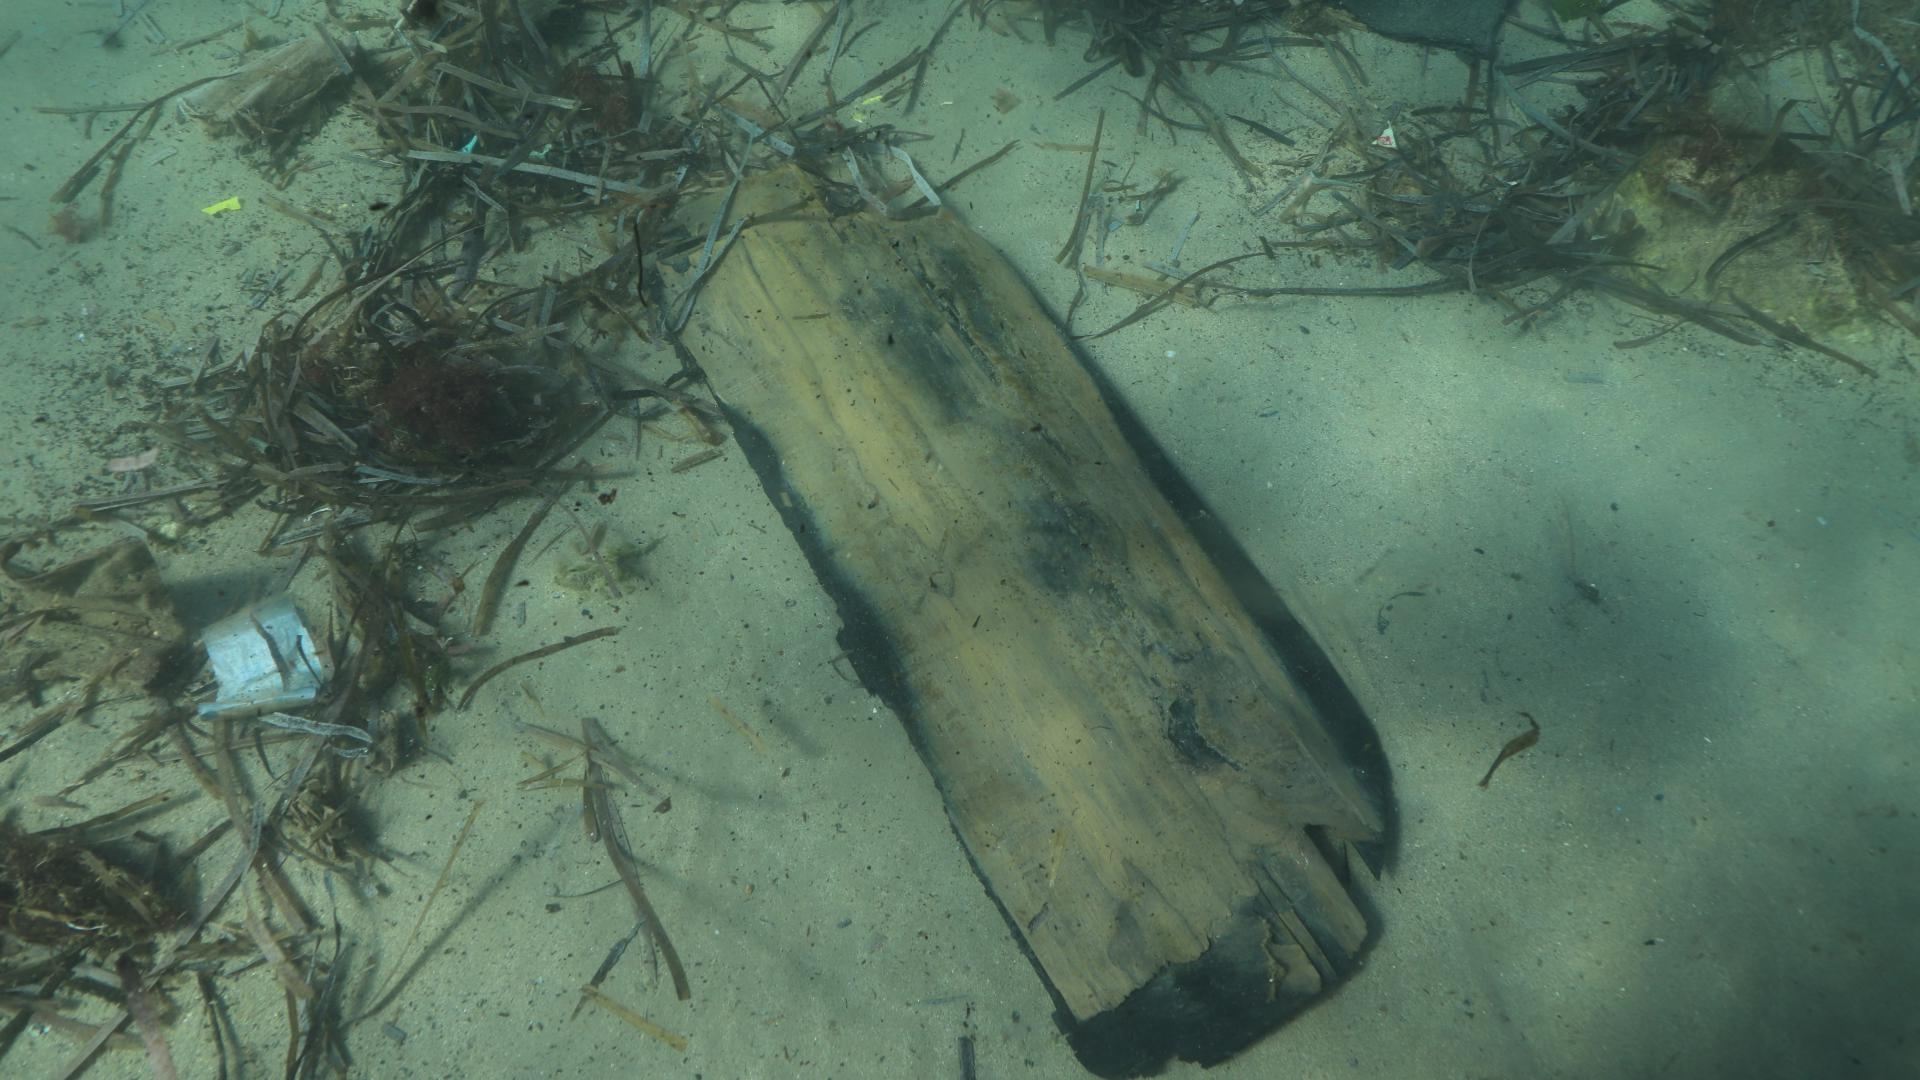wood: (636, 161, 1395, 1080)
